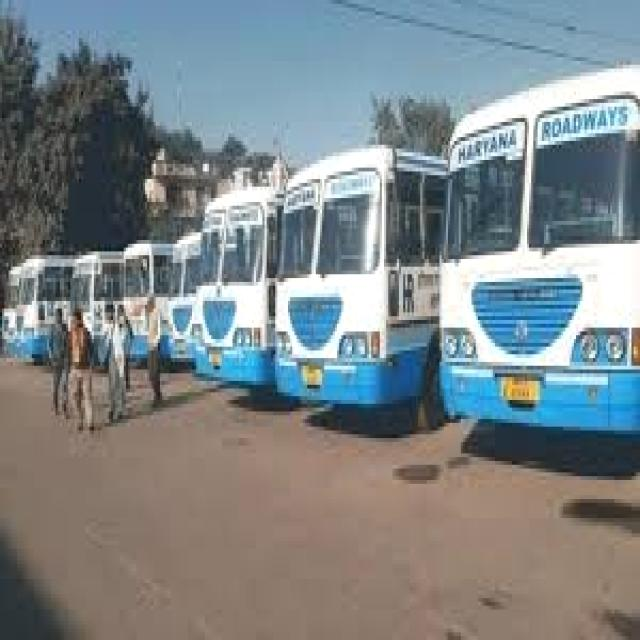bus: (433, 50, 640, 477), (277, 131, 437, 437), (192, 161, 275, 412), (120, 223, 173, 373), (68, 225, 121, 372), (18, 244, 69, 381)
